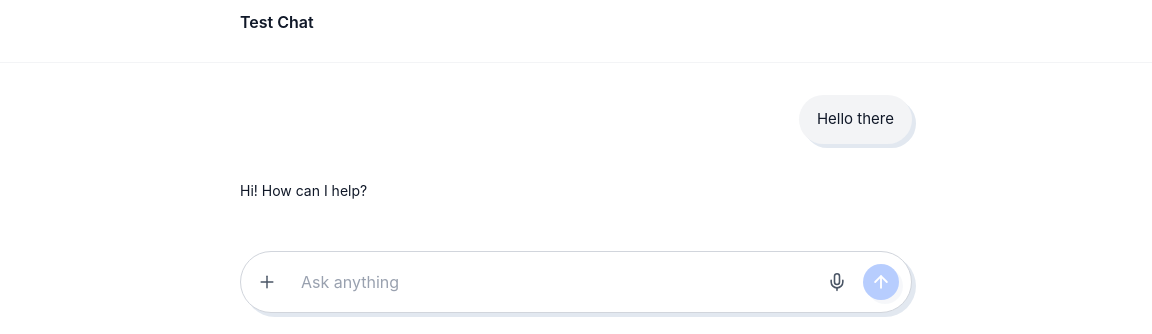
Test: ChatArea › Anhang-Plus-Menü › schließt das Menü, wenn man "Media" auswählt
Click the button with test id "attach-plus-button" at (267, 282), box 249,264 -> 285,300
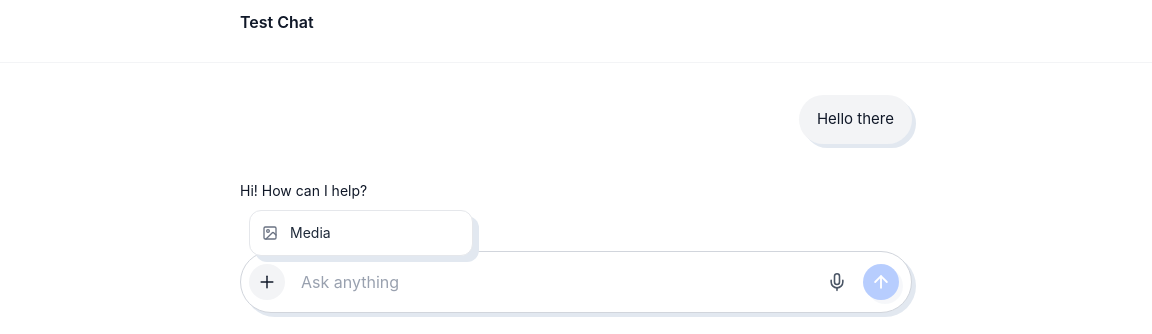
Click the menu item with test id "attach-menu-files" at (361, 232), box 250,214 -> 472,250
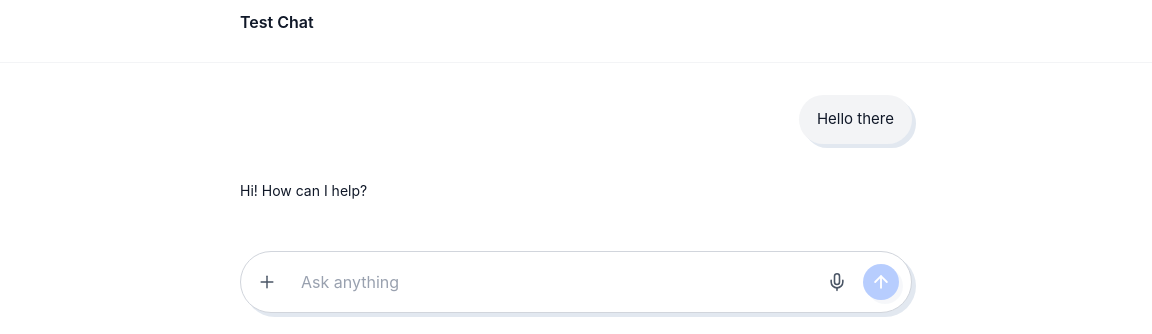
Expected: the menu with test id "attach-menu" is gone
